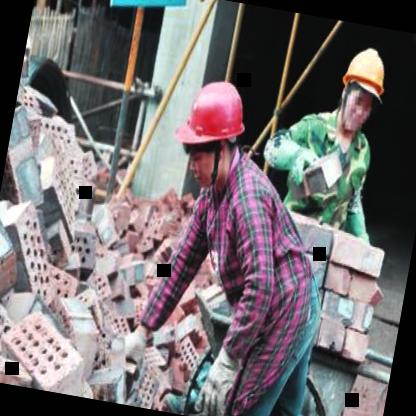helmet: (166, 66, 258, 195), (327, 38, 395, 150)
